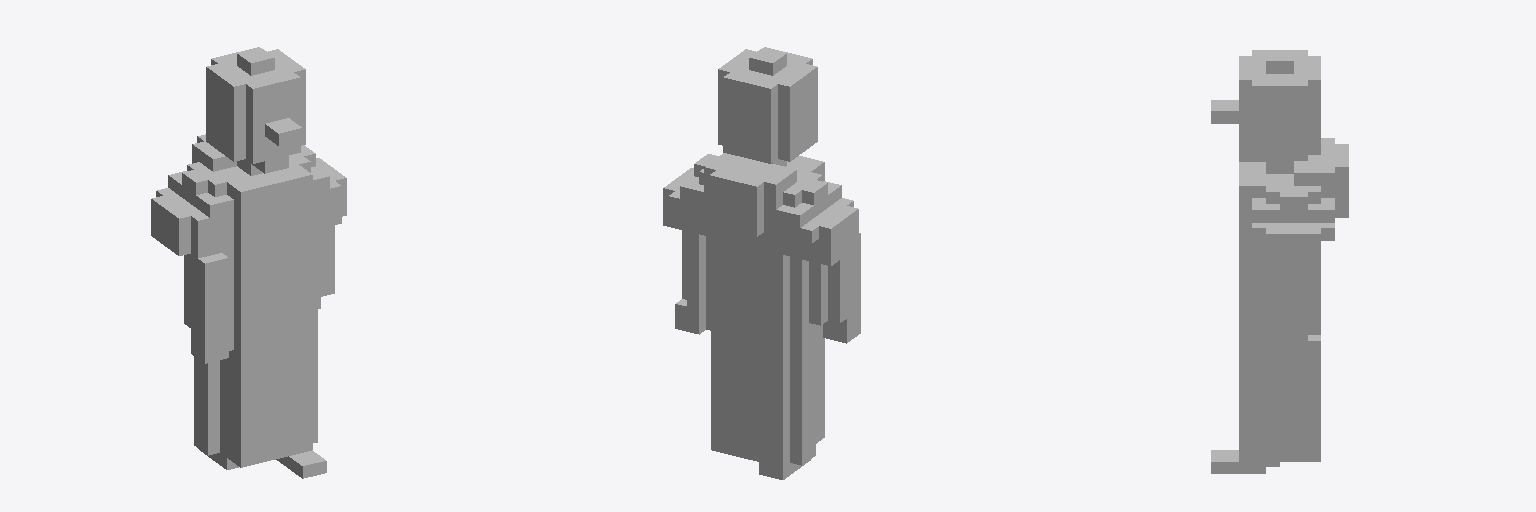
File: Monkv2 7.obj
The picture shows the model from 3 angles: view 1: azimuth 30°, elevation 25°; view 2: azimuth 150°, elevation 25°; view 3: azimuth 270°, elevation 25°; orthographic projection.
Visible parts, largest first — view 1: Monkv2 7; view 2: Monkv2 7; view 3: Monkv2 7.
Part boxes in pixels (x1,y1,x2,y2): Monkv2 7: (151,47,346,478); Monkv2 7: (663,47,860,479); Monkv2 7: (1211,50,1348,473).
Size of the model in its own units: 0.7 by 1.6 by 0.5.